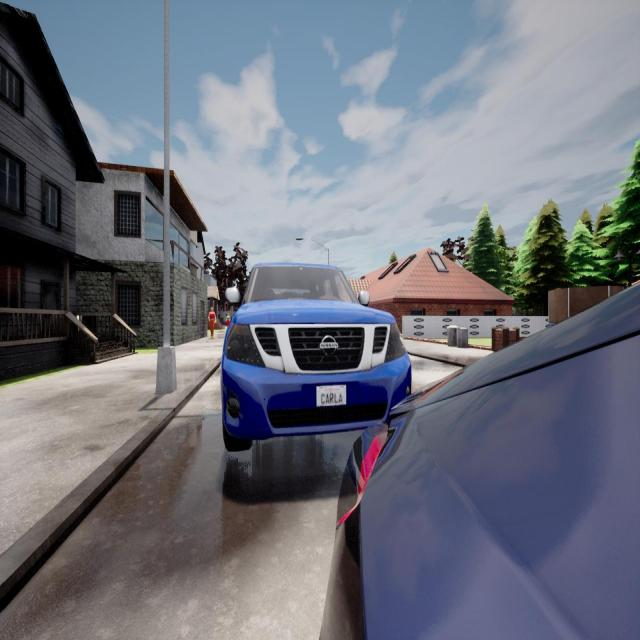Pedestrian: (208, 305, 216, 340), (226, 312, 230, 328)
Vehicle: (321, 286, 640, 640), (221, 262, 410, 450)
